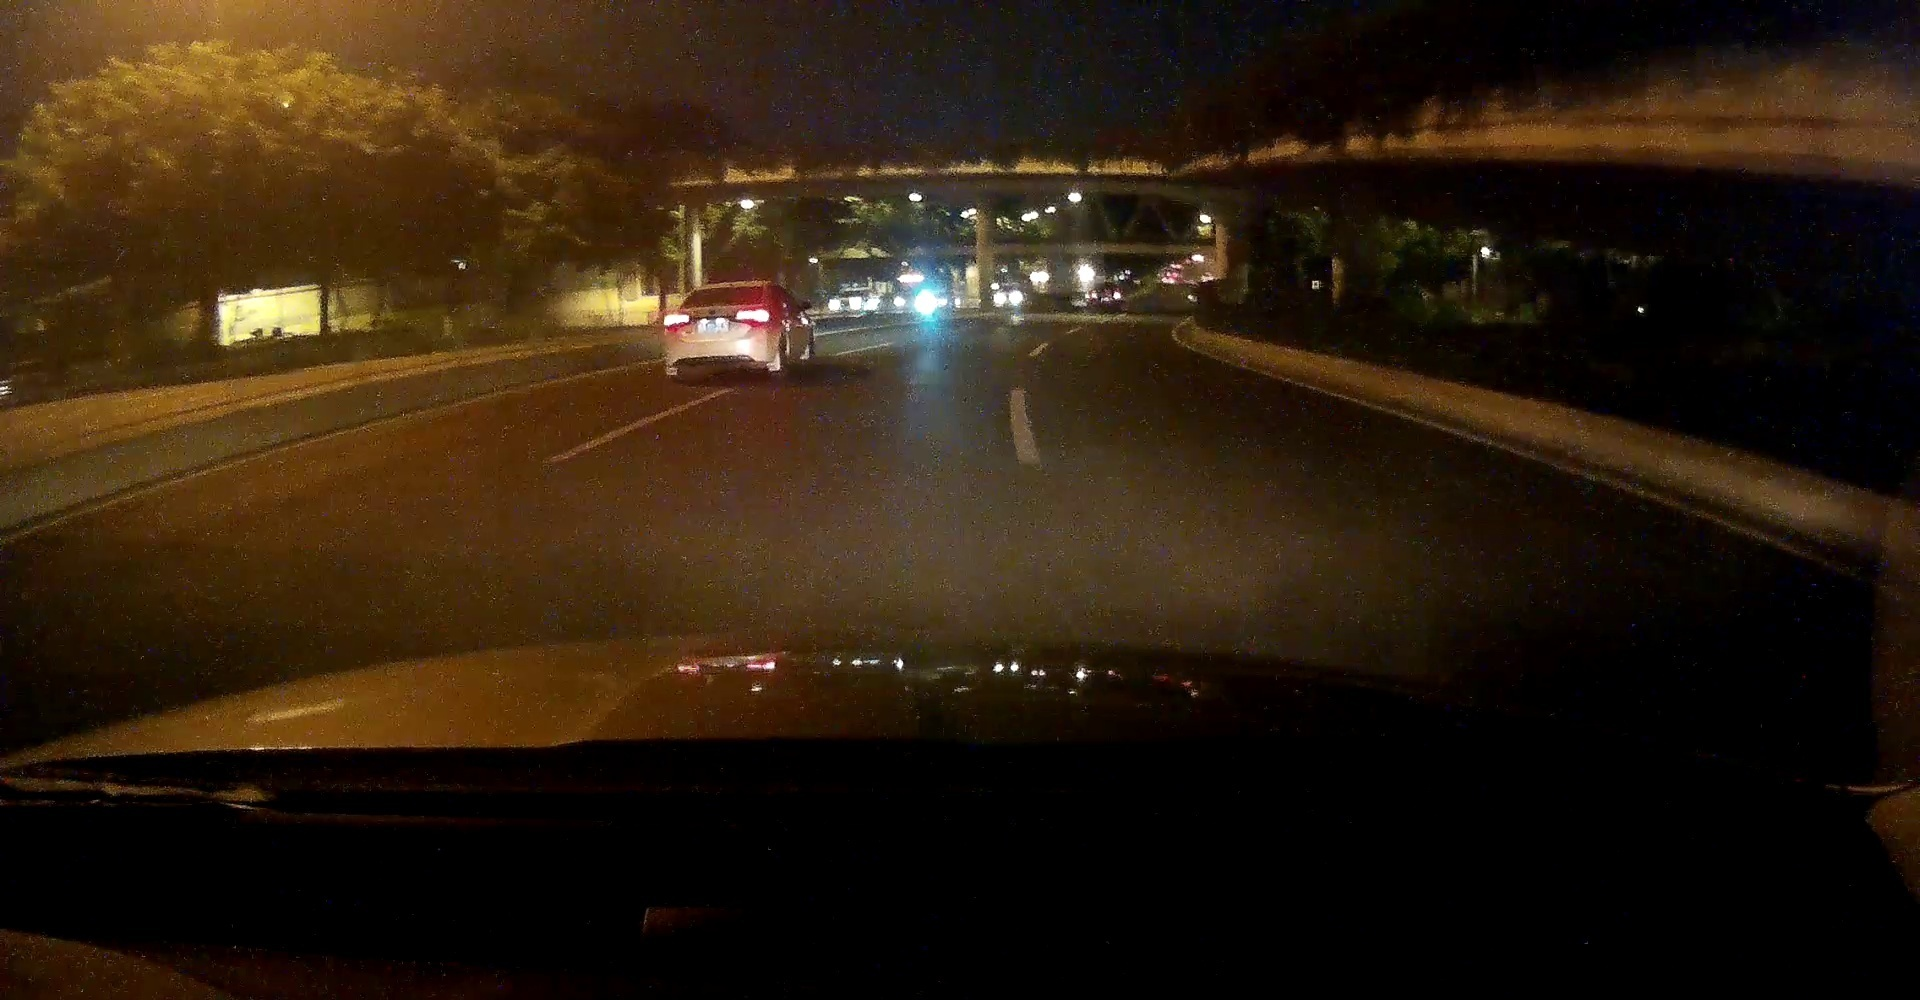L_light: (663, 313, 690, 331)
R_light: (734, 306, 770, 326)
T_light: (721, 283, 735, 289)
night-no: (663, 280, 772, 381)
